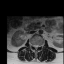CCS_normal: (35, 42, 37, 51)
LFS_normal: (39, 43, 40, 49)
LLS_normal: (37, 43, 39, 50)
RFS_normal: (31, 42, 33, 48)
RLS_normal: (33, 43, 35, 49)
